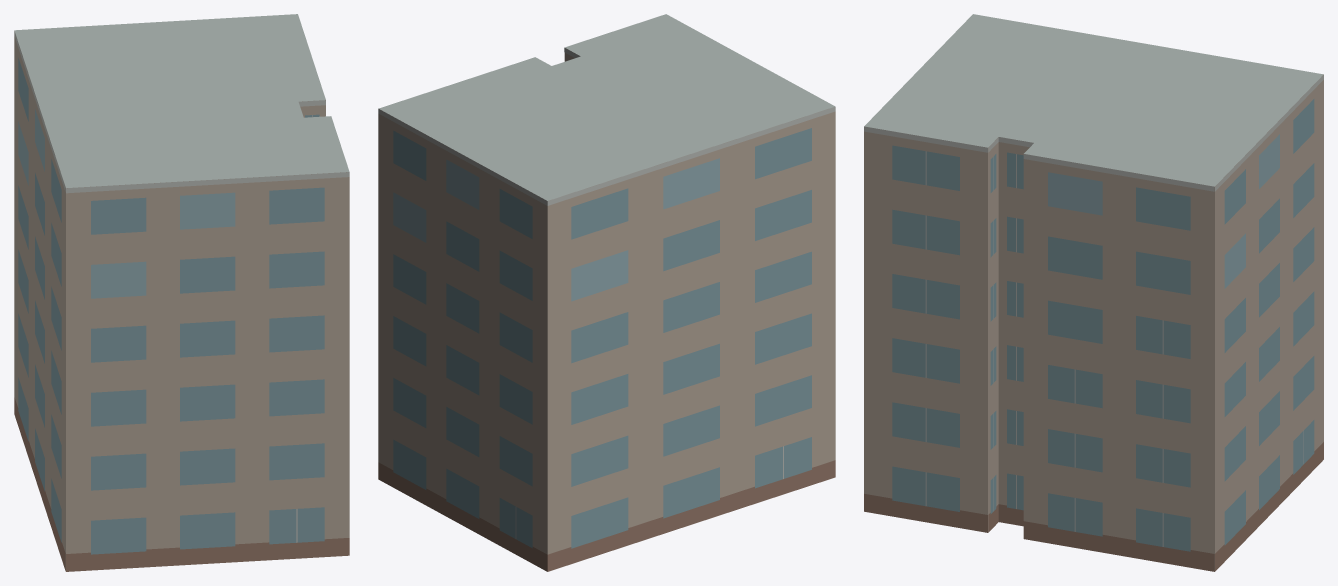
The model's file is survey-upis-32526402.glb.
3 views of the same model, side by side, from view 1: azimuth 30°, elevation 25°; view 2: azimuth 150°, elevation 25°; view 3: azimuth 270°, elevation 25° (orthographic). The views are drawn at different scales.
Visible parts, largest first — view 1: survey-upis-32526402.tmp; view 2: survey-upis-32526402.tmp; view 3: survey-upis-32526402.tmp.
Boxes of the visible parts, x1,y1,x2,y2 form: survey-upis-32526402.tmp: [14, 14, 349, 571]; survey-upis-32526402.tmp: [378, 14, 835, 571]; survey-upis-32526402.tmp: [864, 14, 1323, 571].
Bounding box in the file's own units: 17.6 × 18.3 × 19.81.
